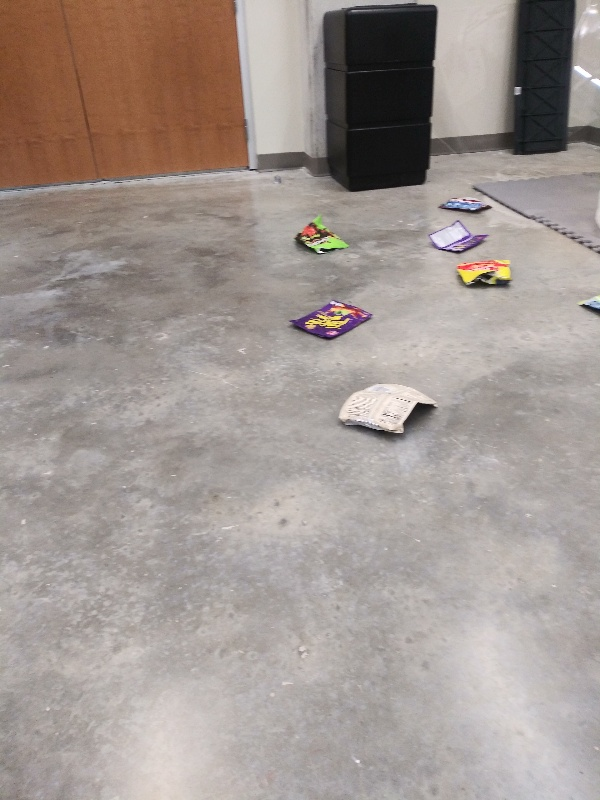bag: (333, 378, 444, 439), (284, 297, 377, 347), (292, 211, 356, 260), (421, 216, 493, 254), (449, 254, 516, 289), (434, 191, 494, 217), (576, 284, 600, 322)
